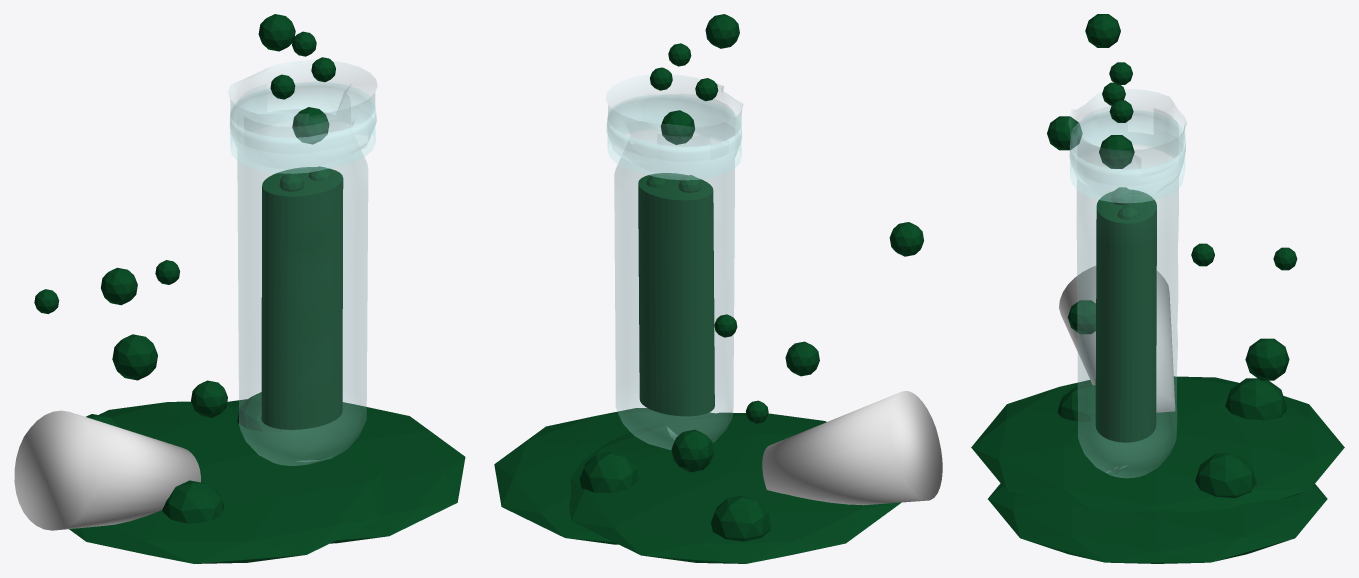
Rendered from potiuneclidindrustricata.fbx.
3 views of the same model, side by side, from view 1: azimuth 30°, elevation 25°; view 2: azimuth 150°, elevation 25°; view 3: azimuth 270°, elevation 25° (orthographic). The views are drawn at different scales.
Visible parts, largest first — view 1: Sphere.004, Icosphere, Cylinder.001, Cylinder, Icosphere.001, Icosphere.009, Icosphere.012, Icosphere.016, Icosphere.015, Icosphere.008, Icosphere.004, Icosphere.011; view 2: Sphere.004, Icosphere, Cylinder.001, Cylinder, Icosphere.001, Icosphere.010, Icosphere.011, Icosphere.012, Icosphere.008, Icosphere.016, Icosphere.015, Icosphere.004; view 3: Sphere.004, Icosphere, Icosphere.001, Cylinder.001, Cylinder, Icosphere.011, Icosphere.010, Icosphere.012, Icosphere.009, Icosphere.015, Icosphere.008, Icosphere.004 (+1 smaller).
Boxes of the visible parts, box(x1,y1,x2,y2) form: Sphere.004: box(228, 60, 376, 465); Icosphere: box(69, 401, 384, 563); Cylinder.001: box(261, 167, 343, 429); Cylinder: box(14, 410, 200, 530); Icosphere.001: box(227, 399, 465, 543); Icosphere.009: box(162, 480, 224, 523); Icosphere.012: box(112, 334, 157, 380); Icosphere.016: box(191, 380, 227, 417); Icosphere.015: box(101, 267, 137, 305); Icosphere.008: box(258, 14, 295, 51); Icosphere.004: box(292, 107, 329, 144); Icosphere.011: box(237, 392, 290, 432); Sphere.004: box(606, 75, 742, 449); Icosphere: box(569, 412, 901, 563); Cylinder.001: box(638, 173, 714, 416); Cylinder: box(762, 391, 942, 505); Icosphere.001: box(494, 408, 714, 544); Icosphere.010: box(711, 495, 770, 541); Icosphere.011: box(579, 451, 638, 492); Icosphere.012: box(671, 429, 713, 472); Icosphere.008: box(705, 14, 739, 48); Icosphere.016: box(785, 341, 819, 376); Icosphere.015: box(889, 222, 923, 256); Icosphere.004: box(660, 110, 694, 144); Sphere.004: box(1069, 89, 1186, 477); Icosphere: box(971, 376, 1344, 511); Icosphere.001: box(988, 483, 1327, 563); Cylinder.001: box(1095, 190, 1156, 442); Cylinder: box(1059, 266, 1175, 412); Icosphere.011: box(1195, 453, 1256, 497); Icosphere.010: box(1225, 378, 1286, 420); Icosphere.012: box(1245, 338, 1289, 380); Icosphere.009: box(1057, 385, 1095, 421); Icosphere.015: box(1047, 116, 1082, 150); Icosphere.008: box(1085, 14, 1120, 47); Icosphere.004: box(1099, 135, 1134, 168).
Bounding box in the file's own units: 1027 × 1164 × 828.
